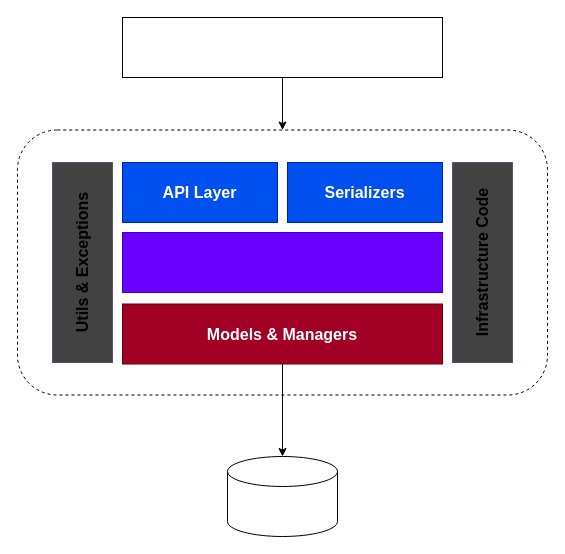
Some shapes in this 565 by 554 pixel diagram are drawn without their labels. The shapes that lost their labels are listed below. From the top down, each one's box as (x1, y1, x2, y2) in pixels, then its label:
(122, 16, 442, 78): UI Client
(122, 232, 442, 292): Service Layer
(226, 456, 338, 536): Database
